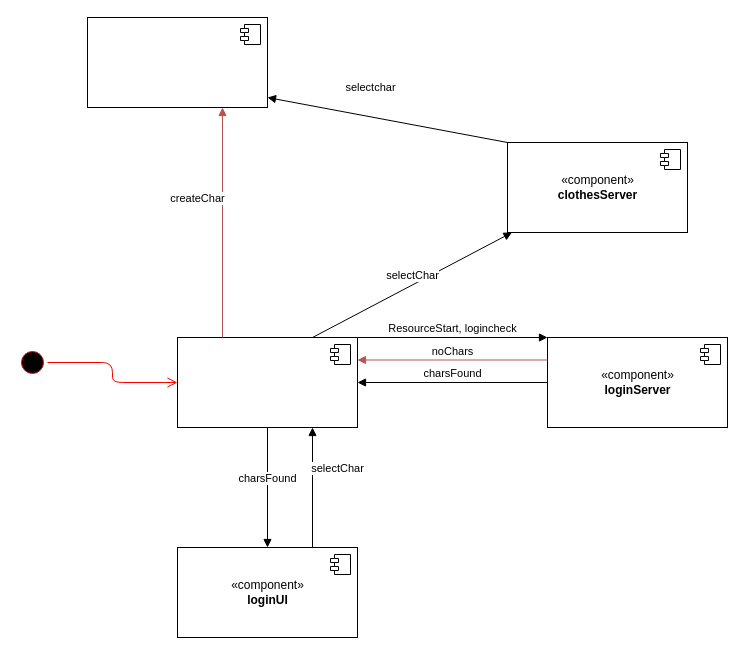
Some shapes in this 745 by 655 pixel diagram are drawn without their labels. Each missing label, with the centre of its shape:
«component» clothesShop: (177,62)
«component» loginLocal: (267,382)
